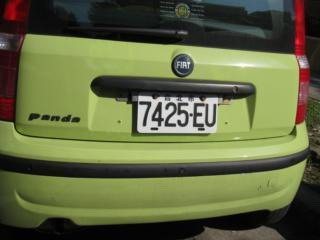plate: (135, 90, 216, 143)
